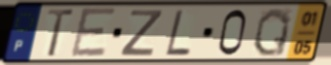0: (217, 8, 248, 58)
E: (68, 6, 118, 60)
L: (164, 8, 192, 57)
Q: (251, 6, 293, 58)
T: (44, 8, 77, 59)
Z: (118, 8, 166, 58)
